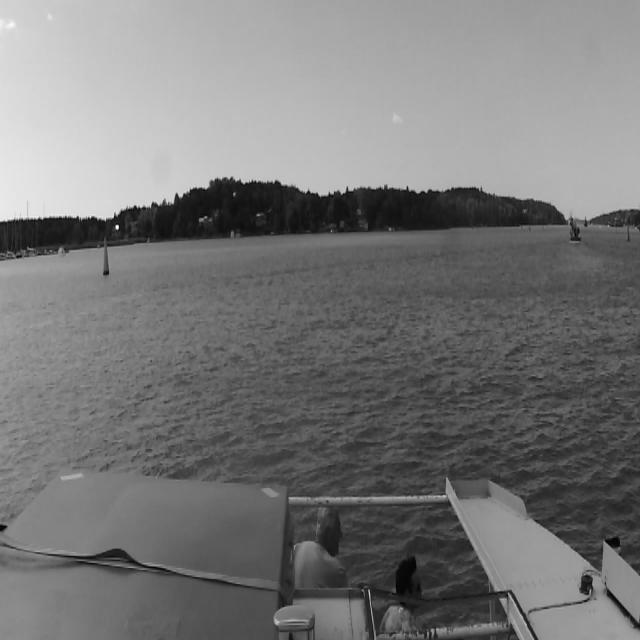buoy: (101, 237, 110, 276), (626, 224, 632, 240)
ship: (569, 215, 582, 245)
